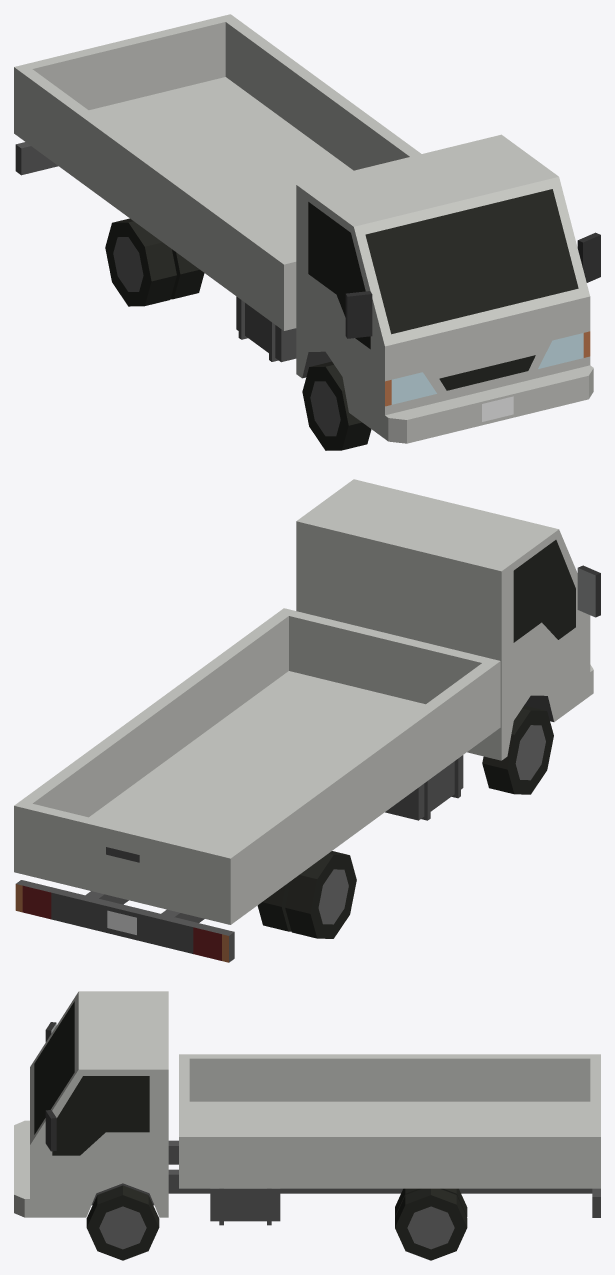
File: Veh_Truck_02_Flat_White.obj
3 views of the same model, one above another, from view 1: azimuth 30°, elevation 25°; view 2: azimuth 150°, elevation 25°; view 3: azimuth 270°, elevation 25° (orthographic). The views are drawn at different scales.
Bounding box in the file's own units: 1.27 × 1.17 × 3.26.
